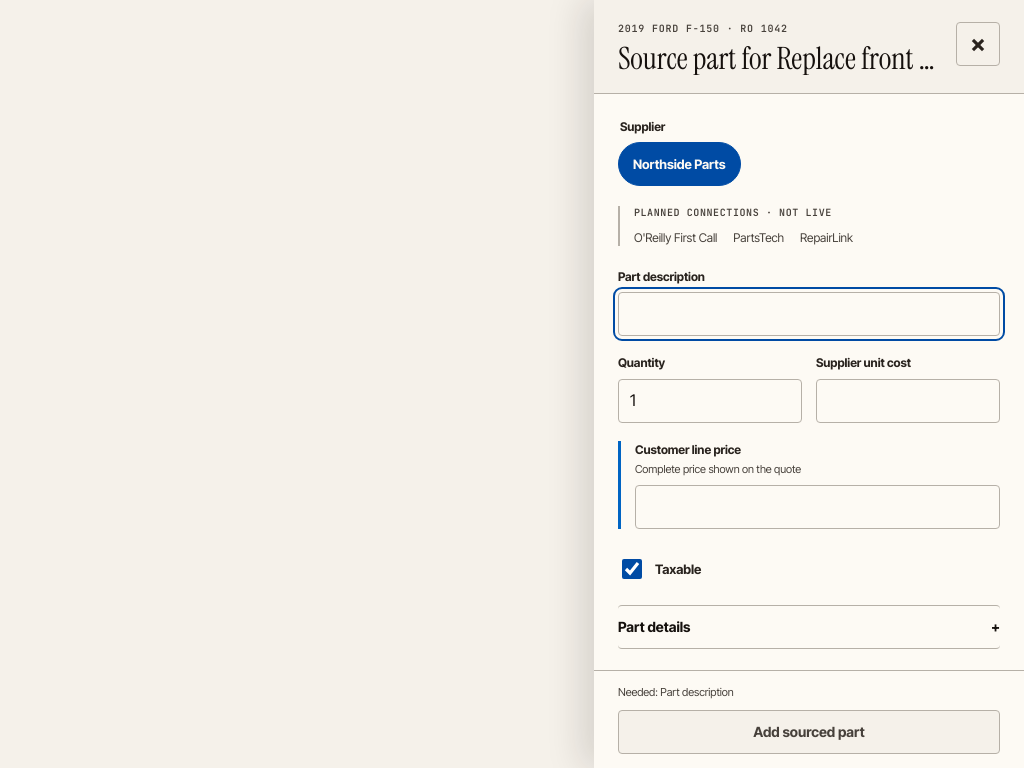
Test: ManualPartSourcing › clears stale submitted status after a correction so the next required issue is announced
Click the button "Add sourced part" at x=809, y=732, box [618,710,1000,754]
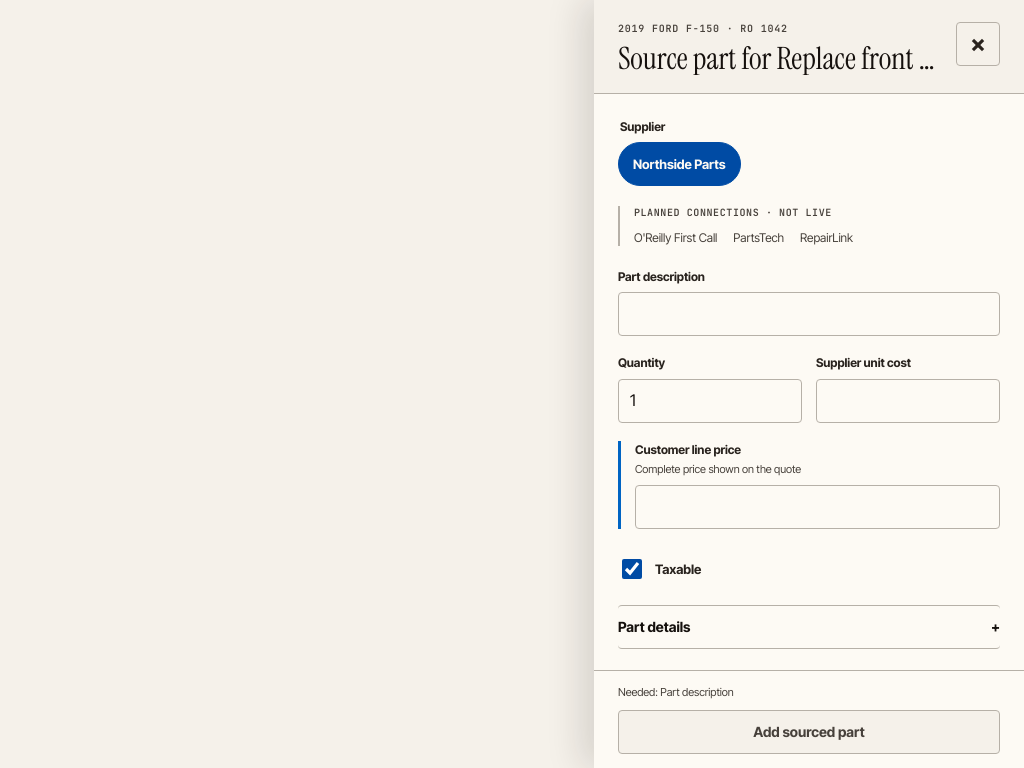
Expected: the message shows "Part description", [618,685,734,699]
Type "Pads" into the field labelled "Part description" at x=809, y=314, box [618,292,1000,336]
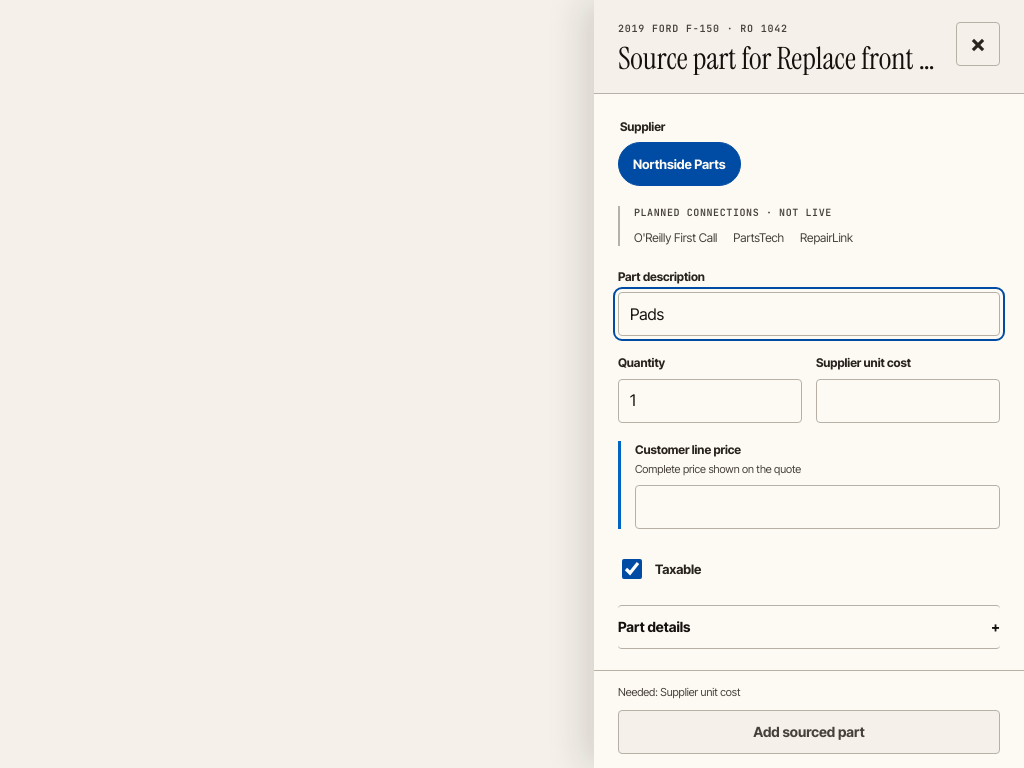
Expected: the message does not show "Part description", [618,685,740,699]
Now the message shows "Supplier unit cost", box [618,685,740,699]
